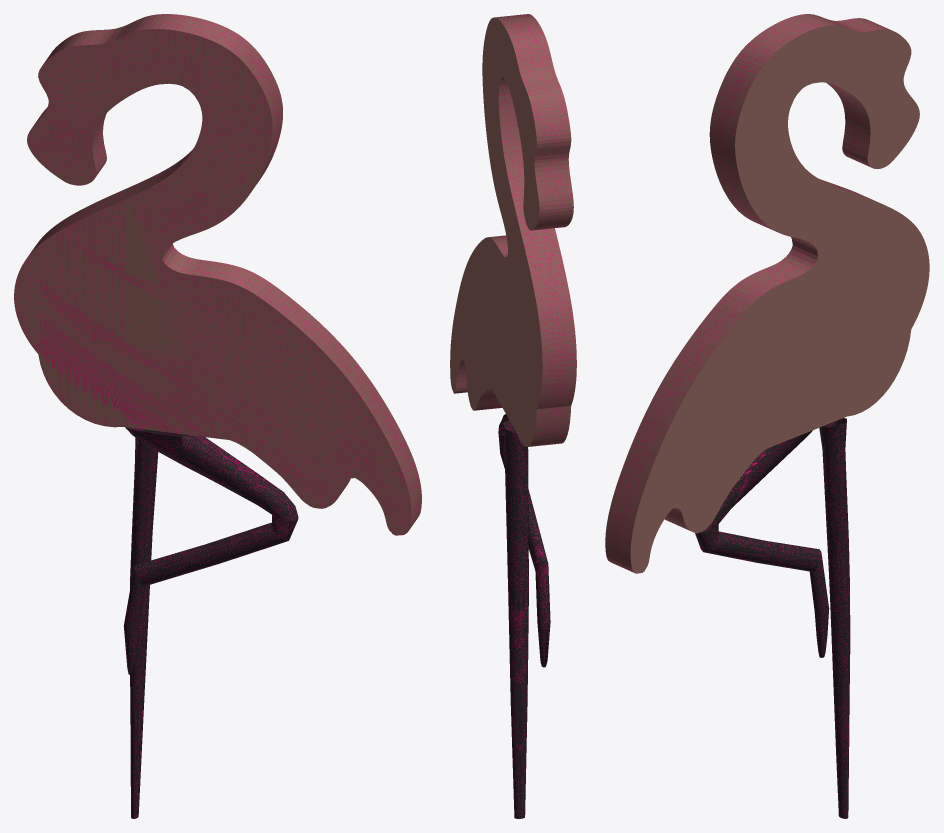
File: grass_obj03.fbx
3 views of the same model, side by side, from view 1: azimuth 30°, elevation 25°; view 2: azimuth 150°, elevation 25°; view 3: azimuth 270°, elevation 25° (orthographic). The views are drawn at different scales.
Parts seen in each view (by area): view 1: flamingo_dwg1, Group1; view 2: flamingo_dwg1, Group1; view 3: flamingo_dwg1, Group1.
Part boxes in pixels (x1=…): flamingo_dwg1: x1=14, y1=14, x2=421, y2=535; Group1: x1=123, y1=427, x2=298, y2=818; flamingo_dwg1: x1=450, y1=14, x2=576, y2=446; Group1: x1=498, y1=414, x2=550, y2=818; flamingo_dwg1: x1=605, y1=14, x2=929, y2=573; Group1: x1=695, y1=418, x2=850, y2=818.
Size of the model in its own units: 969 by 2760 by 1012.
